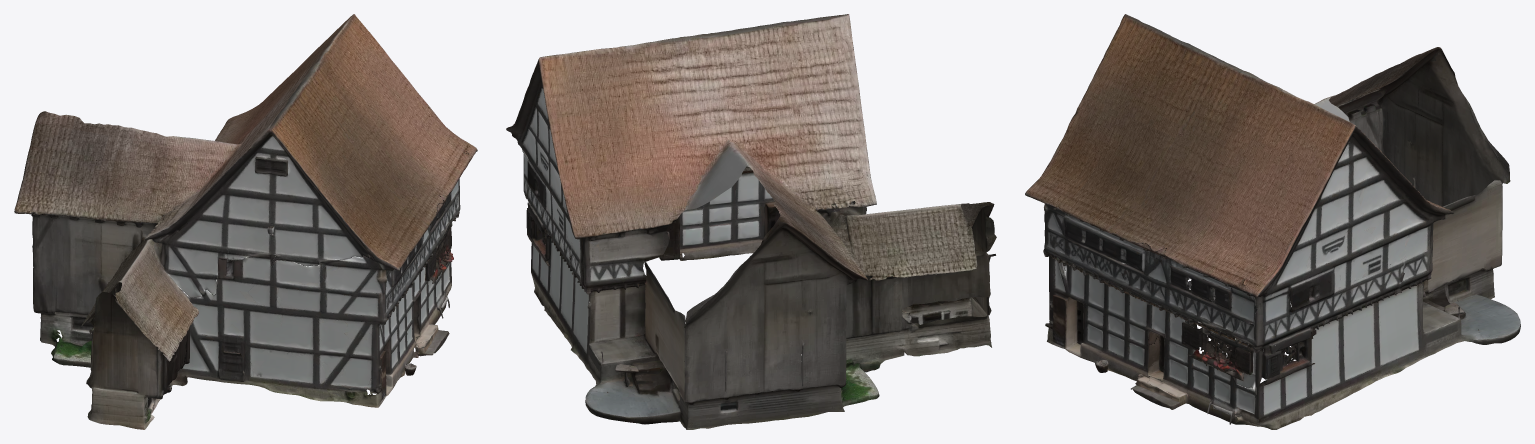
File: bauernhaus.glb
3 views of the same model, side by side, from view 1: azimuth 30°, elevation 25°; view 2: azimuth 150°, elevation 25°; view 3: azimuth 270°, elevation 25° (orthographic). The views are drawn at different scales.
Visible parts, largest first — view 1: geometry_0; view 2: geometry_0; view 3: geometry_0.
Part boxes in pixels (box(x1,y1,x2,y2)): geometry_0: box(14, 14, 477, 429); geometry_0: box(506, 14, 996, 429); geometry_0: box(1025, 14, 1520, 429).
Size of the model in its own units: 1 by 0.6092 by 0.9294.
Materials: 1 (1 with a texture image).
